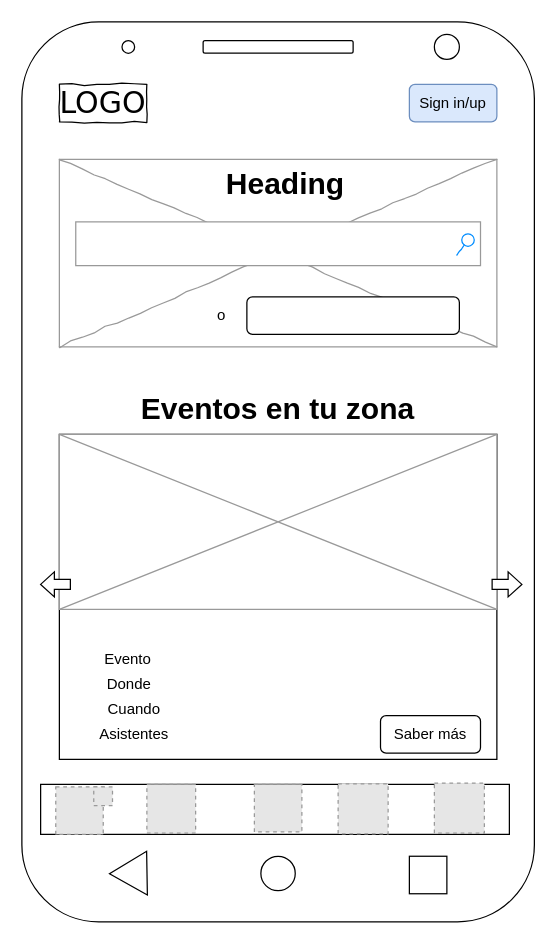
This 556x944 diagram has some shape labels left out. Grey dashed boxes stand in for pictures. Here are the shapes that lost their labels. From the top down, the centre of each, then its label:
At pixel 277 243: "Search".
At pixel 352 315: "Crea tu grupo".
